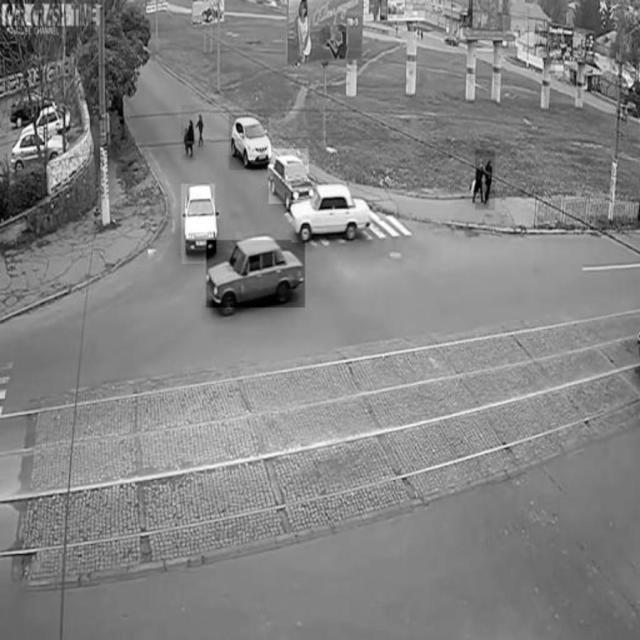person: (475, 149, 495, 210), (181, 106, 196, 161), (195, 104, 210, 159)
vehicle: (207, 241, 305, 308), (292, 182, 375, 243), (9, 122, 70, 172), (182, 184, 216, 264), (269, 149, 309, 204), (229, 116, 269, 171)
